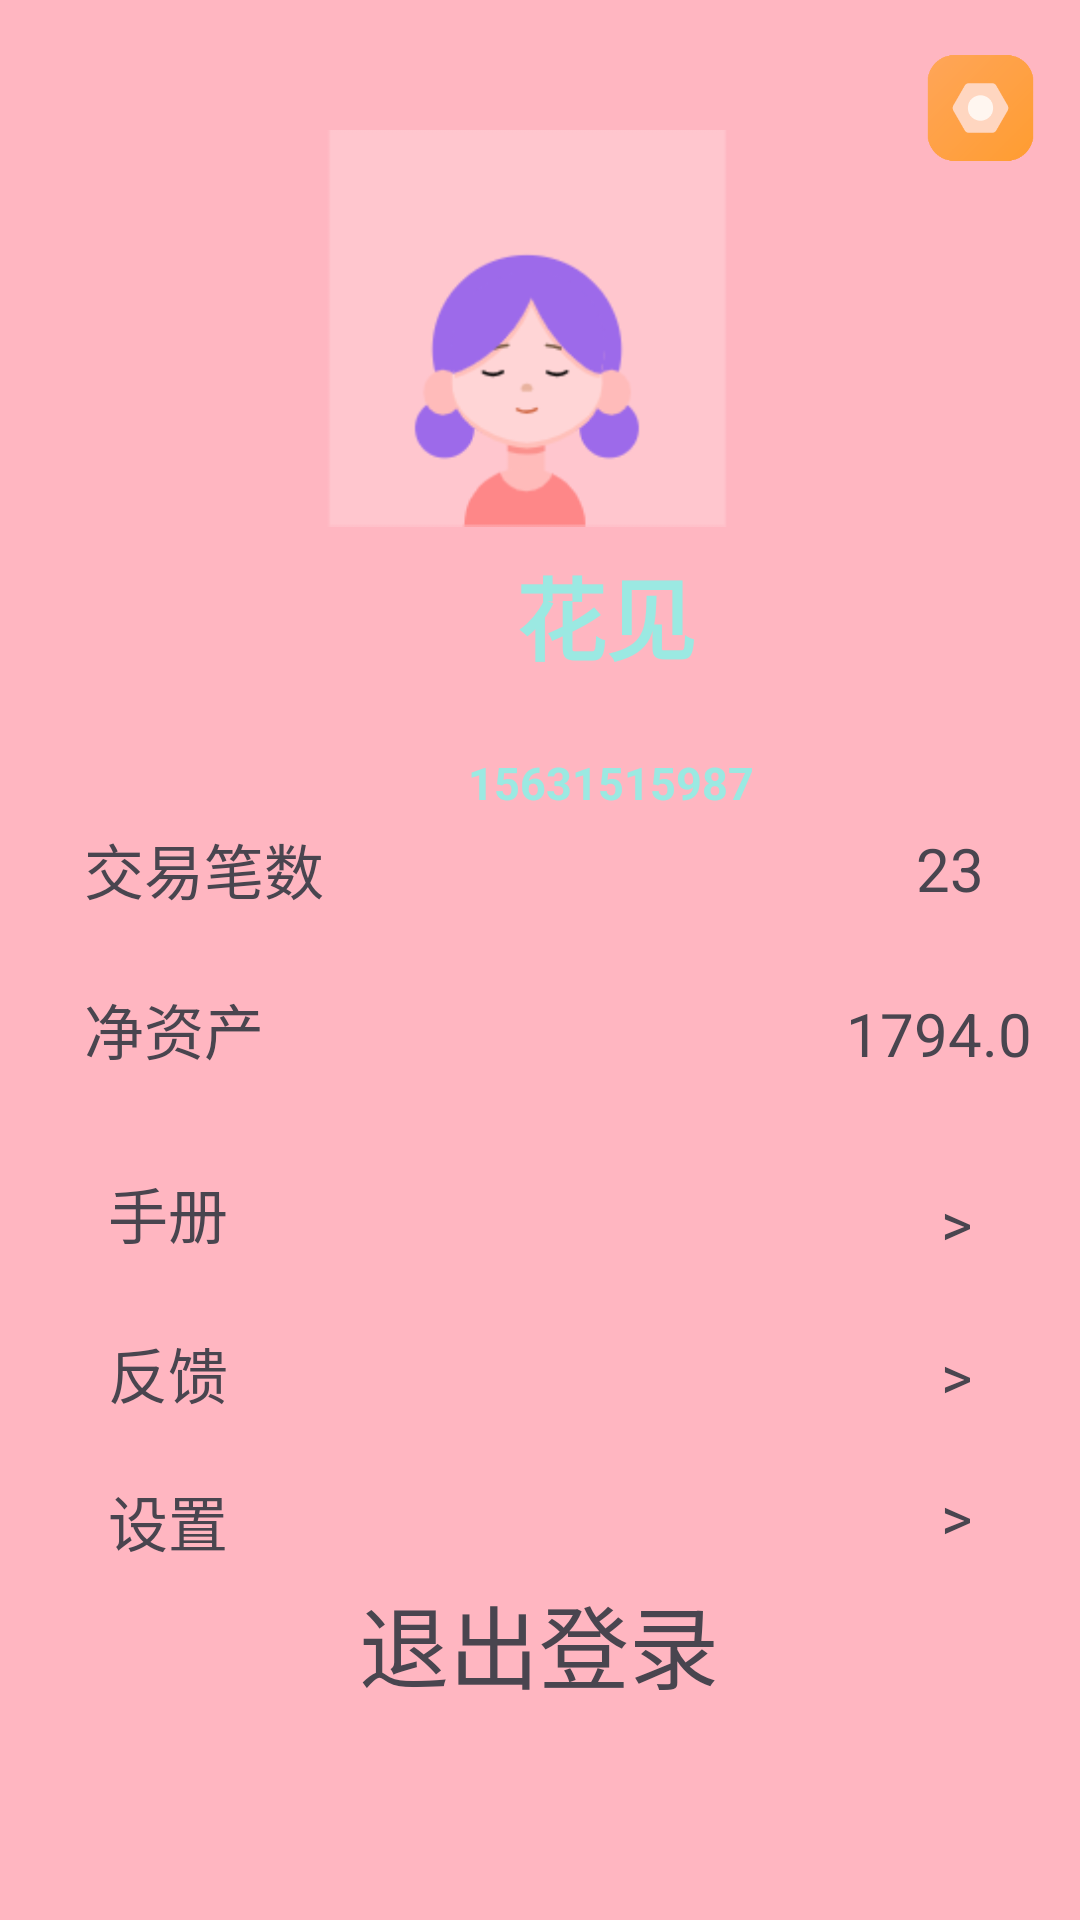

Point at icon controls on the screen. Image size 1080w x 1920h, points as (x=x, y=y).
shezhi: (x=980, y=108)
touxiang: (x=527, y=391)
